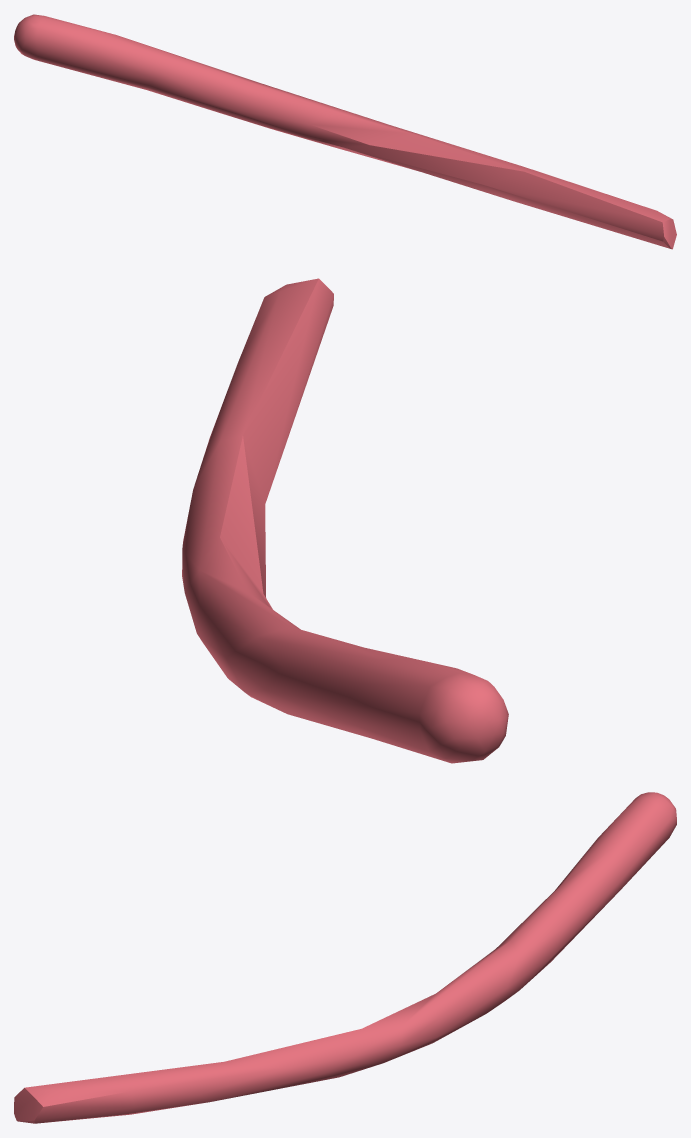
Rendered from fma8667_fj6000.glb.
The picture shows the model from 3 angles, top to bottom: view 1: azimuth 30°, elevation 25°; view 2: azimuth 150°, elevation 25°; view 3: azimuth 270°, elevation 25°; orthographic projection. The views are drawn at different scales.
Visible parts, largest first — view 1: FMA8667_FJ6000; view 2: FMA8667_FJ6000; view 3: FMA8667_FJ6000.
Boxes of the visible parts, x1,y1,x2,y2 form: FMA8667_FJ6000: [14, 14, 676, 249]; FMA8667_FJ6000: [182, 278, 508, 763]; FMA8667_FJ6000: [14, 792, 676, 1123].
Bounding box in the file's own units: 0.0306 × 0.00915 × 0.04.
